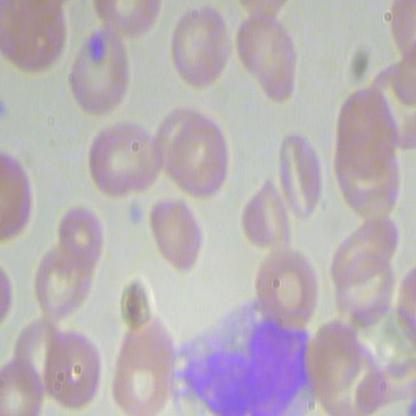RBC: (76, 111, 170, 206), (236, 3, 306, 106), (66, 25, 136, 122), (246, 250, 321, 338), (166, 3, 236, 94), (162, 109, 232, 197), (114, 319, 178, 415), (143, 192, 212, 273), (40, 326, 105, 407), (274, 130, 330, 218), (56, 201, 106, 268)
WBC: (172, 289, 318, 416)
